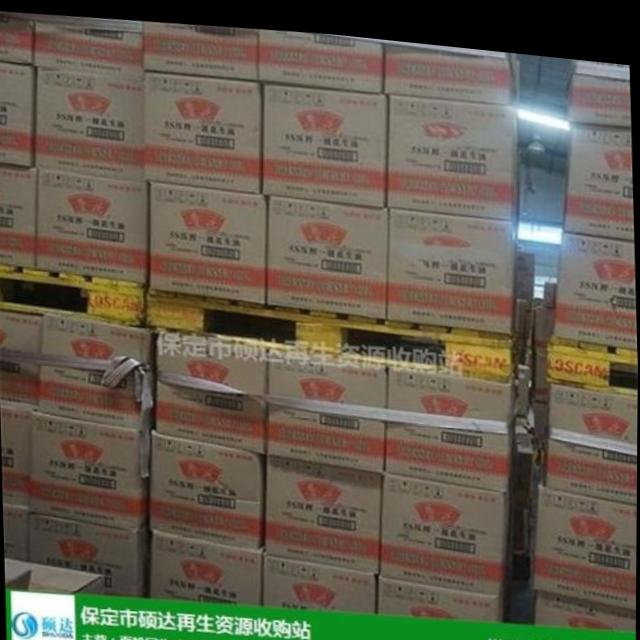box: (384, 83, 515, 208), (378, 466, 511, 585), (261, 77, 386, 201), (387, 200, 513, 322), (385, 359, 513, 479), (267, 188, 388, 312), (141, 66, 263, 188), (267, 345, 389, 467), (32, 409, 152, 529), (266, 446, 384, 567), (148, 179, 267, 298), (39, 312, 157, 429), (156, 327, 271, 447), (151, 427, 267, 543), (532, 473, 637, 597), (31, 65, 145, 179), (35, 168, 150, 281), (545, 372, 638, 491), (28, 509, 155, 594), (551, 219, 637, 338), (149, 525, 266, 599), (562, 110, 634, 227), (257, 23, 382, 84), (383, 34, 509, 93), (264, 547, 379, 607), (141, 18, 259, 75), (31, 15, 143, 75), (0, 303, 67, 403), (378, 565, 505, 610), (569, 47, 631, 116), (0, 400, 39, 509), (0, 59, 37, 167), (0, 165, 38, 269), (533, 580, 637, 616), (16, 560, 108, 593), (533, 268, 556, 387), (512, 236, 532, 351), (511, 403, 533, 494), (3, 503, 33, 562), (0, 13, 34, 64), (6, 555, 32, 591)
